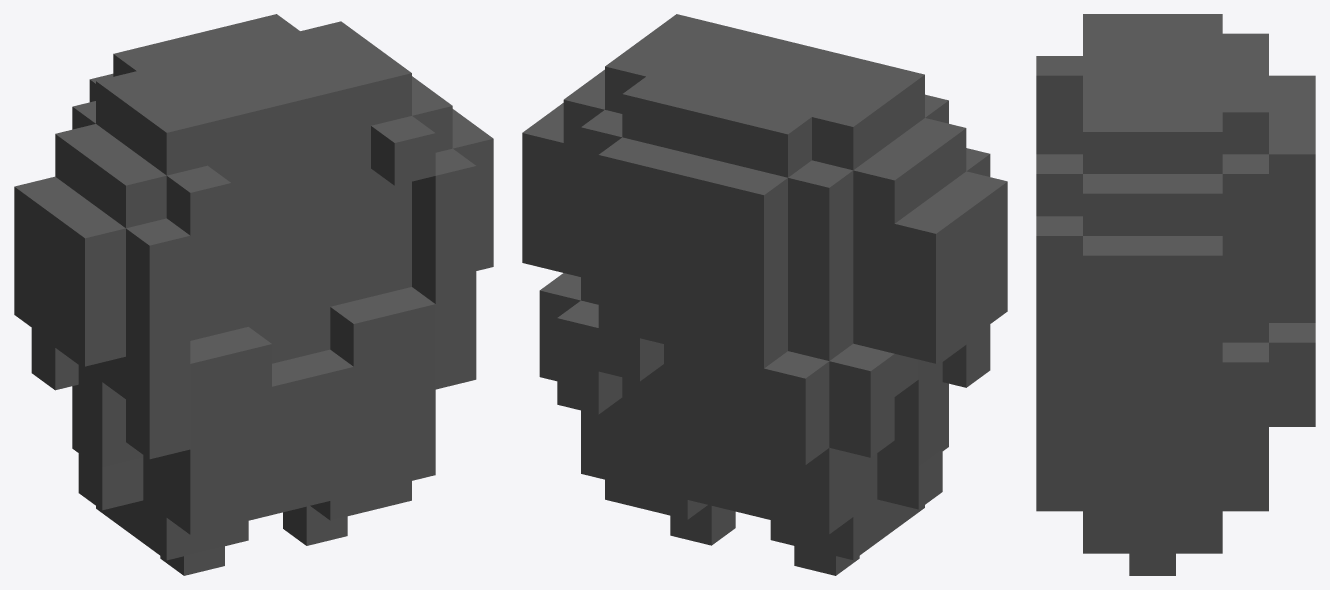
Rendered from chr_headphones.obj.
3 views of the same model, side by side, from view 1: azimuth 30°, elevation 25°; view 2: azimuth 150°, elevation 25°; view 3: azimuth 270°, elevation 25° (orthographic). The views are drawn at different scales.
Size of the model in its own units: 10 by 11 by 6.
